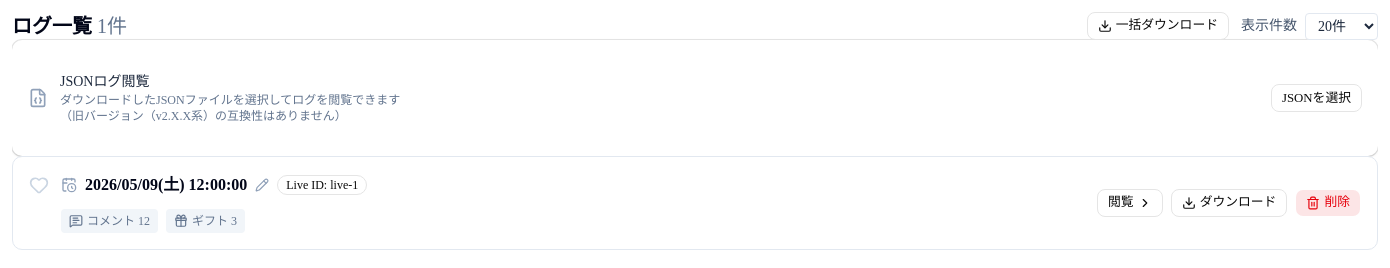
LogListPage › Escapeキーでタイトル編集をキャンセルできる
Step 1. Click the button named "タイトルを編集" → x=262, y=185, box [255,178,269,192]
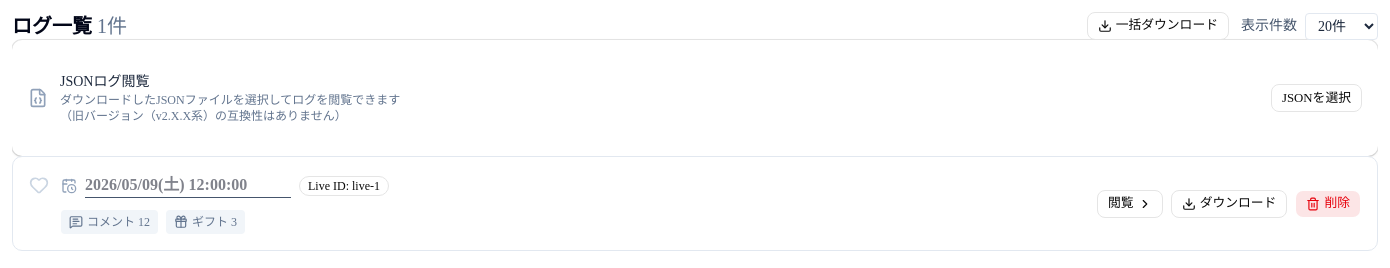
Step 2. Type "変更後のタイトル" into the field → x=188, y=186, box [85,173,291,198]
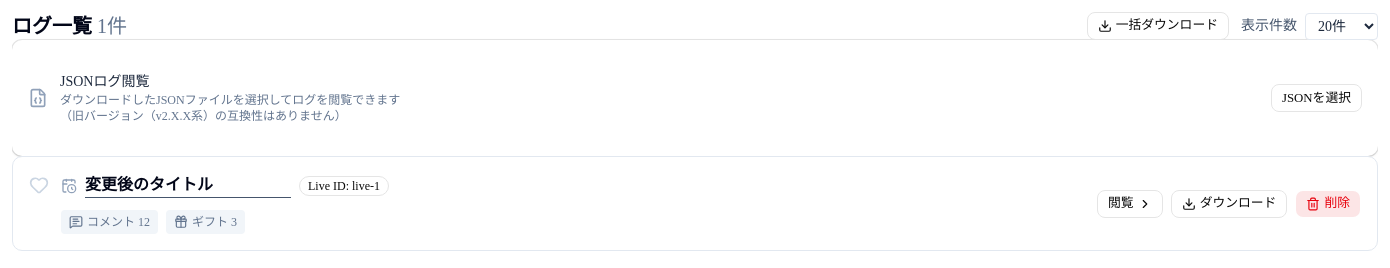
Step 3. Press Escape in the field, box [85,173,291,198]
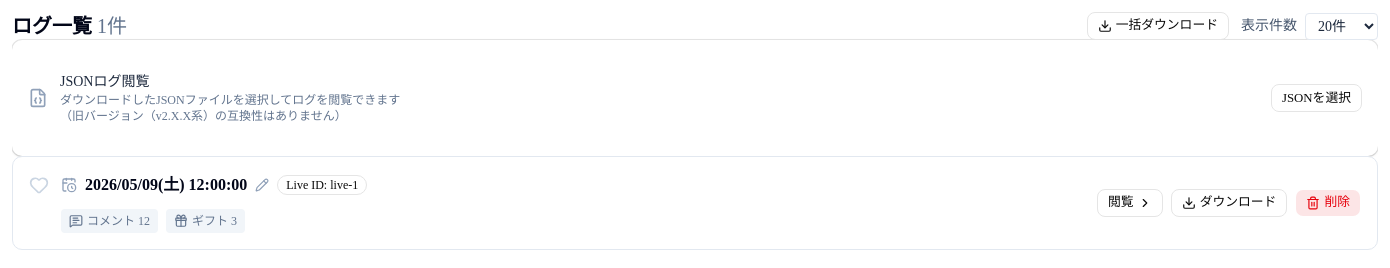
Result: the field is gone
Result: the text "2026/05/09(土) 12:00:00" is shown at [85,173,247,197]
